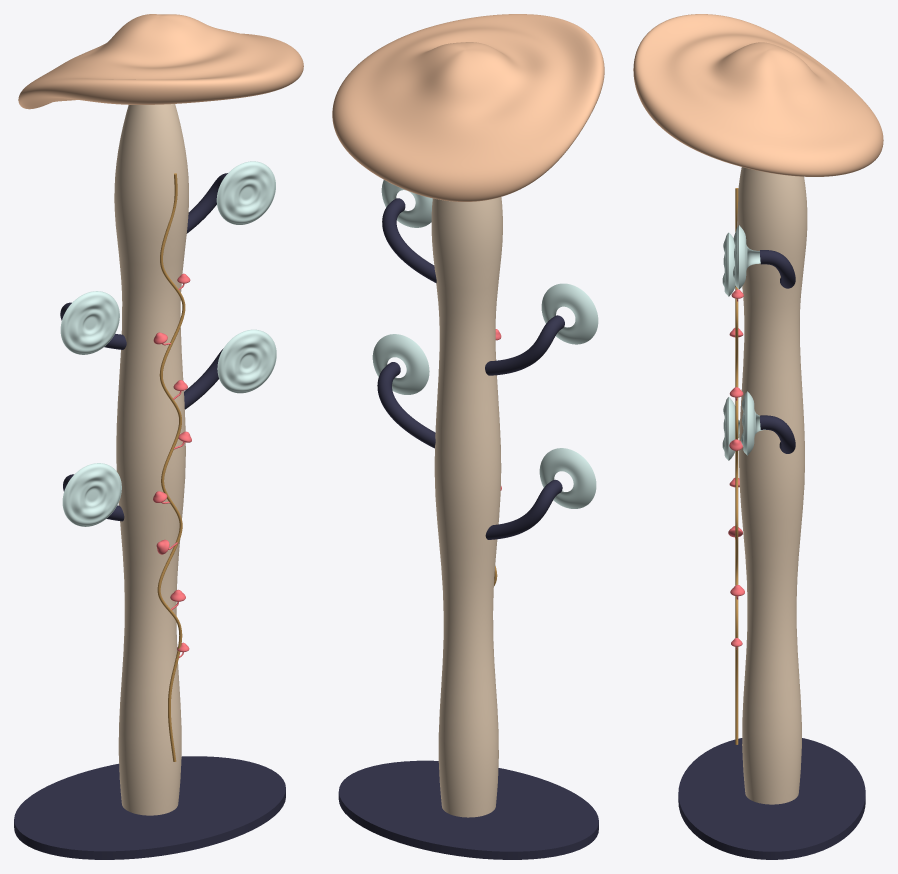
Rendered from tower.baked.glb.
3 renders of one model, left to right at view 1: azimuth 30°, elevation 25°; view 2: azimuth 150°, elevation 25°; view 3: azimuth 270°, elevation 25°, orthographic. The views are drawn at different scales.
Parts seen in each view (by area): view 1: Mast, Base, Crown, Responder, Progress Bar, Mesh_24, Mesh_19; view 2: Crown, Mast, Base, Responder, Mesh_24, Mesh_19, Mesh_23, Mesh_31; view 3: Mast, Crown, Base, Responder, Progress Bar, Mesh_24, Mesh_19.
Part boxes in pixels (bbox=[...]): Mast: bbox=[114, 104, 188, 815]; Base: bbox=[14, 756, 285, 859]; Crown: bbox=[18, 14, 303, 109]; Responder: bbox=[60, 161, 276, 526]; Progress Bar: bbox=[153, 173, 191, 761]; Mesh_24: bbox=[184, 348, 223, 409]; Mesh_19: bbox=[186, 173, 227, 233]; Crown: bbox=[332, 14, 604, 201]; Mast: bbox=[431, 197, 502, 817]; Base: bbox=[338, 760, 598, 859]; Responder: bbox=[372, 180, 598, 508]; Mesh_24: bbox=[377, 362, 435, 448]; Mesh_19: bbox=[382, 198, 436, 283]; Mesh_23: bbox=[485, 315, 564, 375]; Mesh_31: bbox=[485, 479, 562, 539]; Mast: bbox=[737, 167, 807, 804]; Crown: bbox=[633, 14, 883, 176]; Base: bbox=[678, 738, 865, 859]; Responder: bbox=[722, 225, 765, 460]; Progress Bar: bbox=[728, 188, 744, 744]; Mesh_24: bbox=[760, 415, 795, 453]; Mesh_19: bbox=[760, 250, 795, 288].
Size of the model in its own units: 0.7838 by 2.31 by 0.6931.
